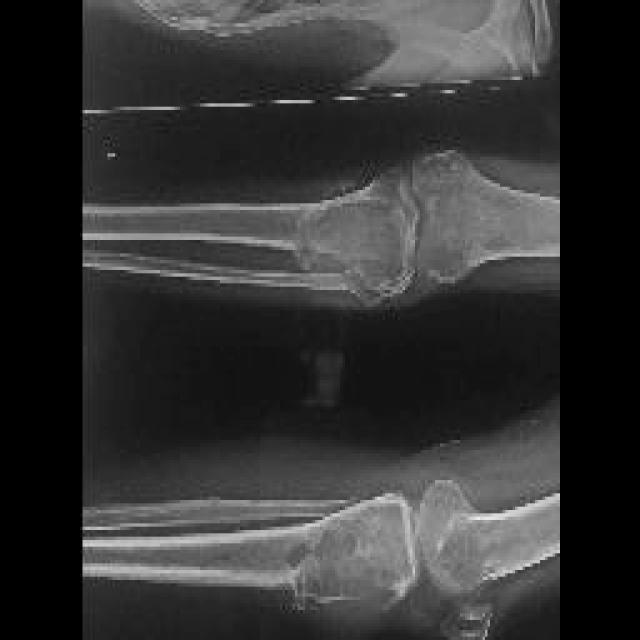bone-cancer: (284, 498, 418, 615), (294, 189, 405, 298)
